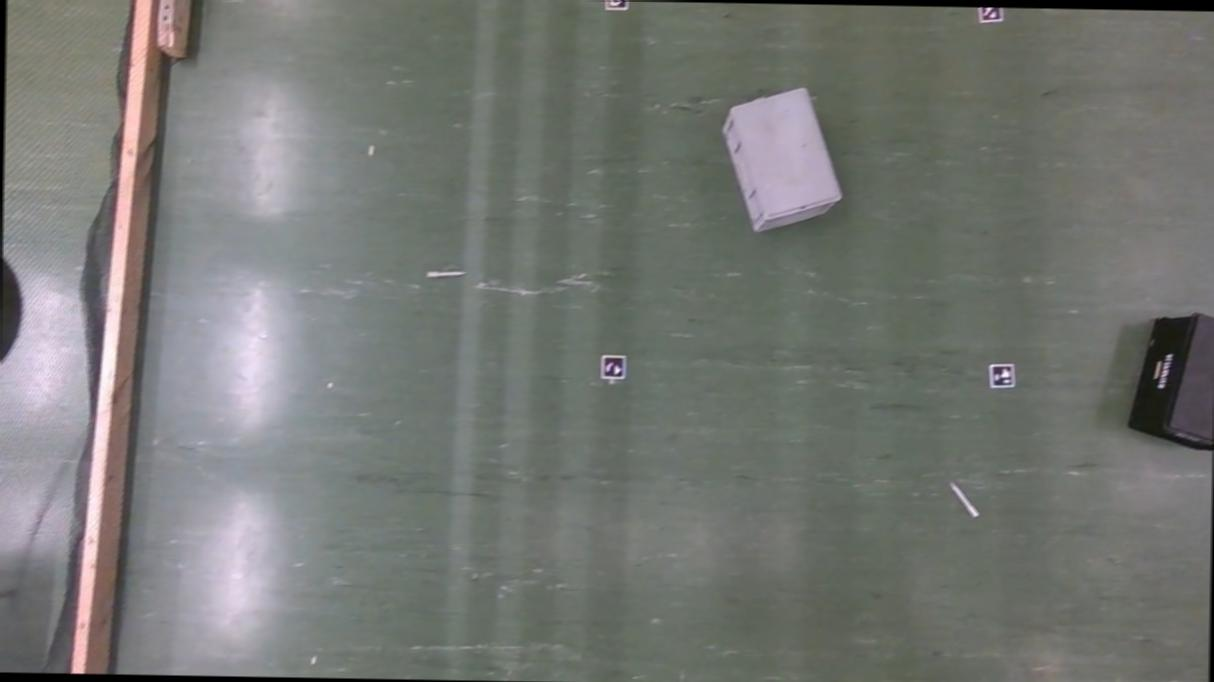probes: (948, 480, 980, 517)
rako: (716, 82, 846, 237), (1126, 311, 1214, 452)
